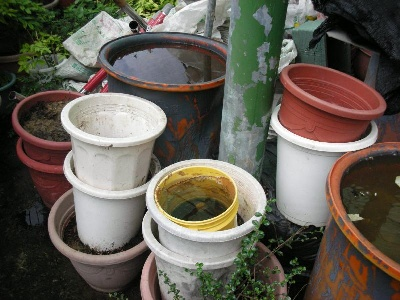bowl: (145, 157, 267, 258), (61, 92, 168, 191), (63, 148, 161, 251), (140, 213, 243, 299), (279, 62, 387, 143)
bucket: (98, 30, 226, 165), (269, 102, 379, 228)
plastic_bag: (63, 14, 123, 64)
